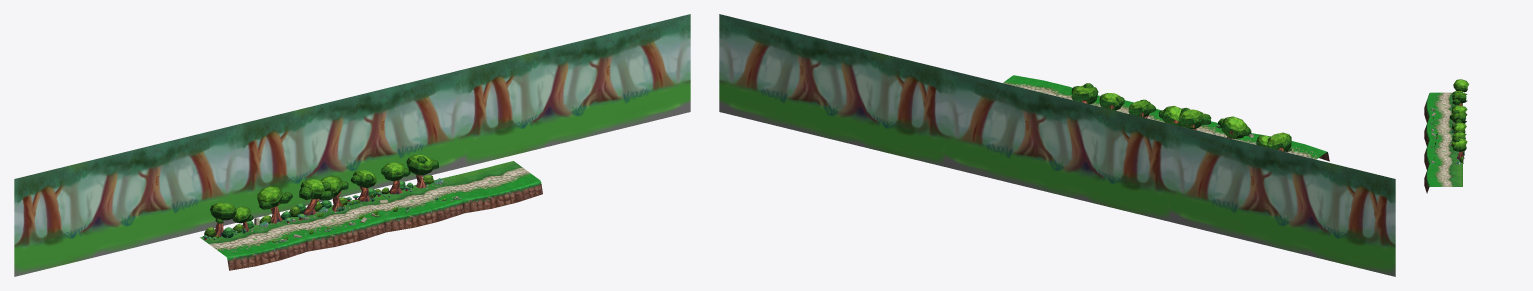
File: changing.fbx
The picture shows the model from 3 angles, left to right: view 1: azimuth 30°, elevation 25°; view 2: azimuth 150°, elevation 25°; view 3: azimuth 270°, elevation 25°; orthographic projection. The views are drawn at different scales.
Parts seen in each view (by area): view 1: changjing:changjing_polySurface2114_1; view 2: changjing:changjing_polySurface2114_1; view 3: changjing:changjing_polySurface2114_1.
Part boxes in pixels (x1,y1,x2,y2): changjing:changjing_polySurface2114_1: (14, 14, 690, 276); changjing:changjing_polySurface2114_1: (719, 14, 1395, 276); changjing:changjing_polySurface2114_1: (1424, 79, 1468, 193).
Size of the model in its own units: 6762 by 936 by 1328.
